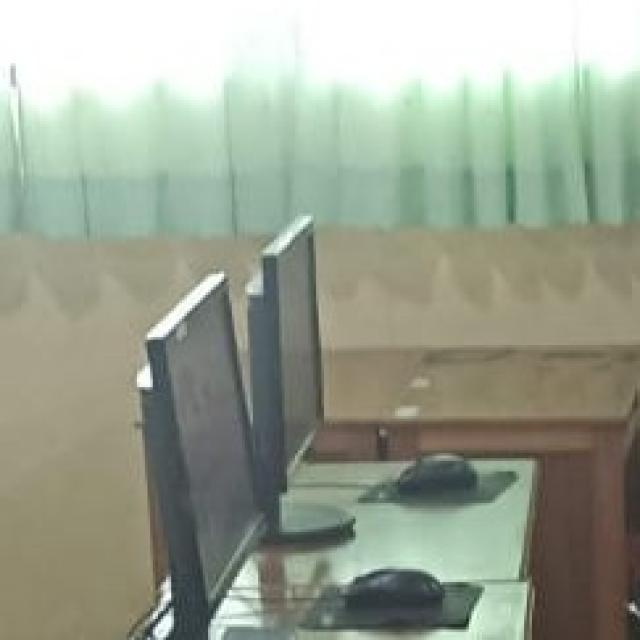offscreen: (263, 215, 323, 491)
onscreen: (141, 273, 261, 588)
